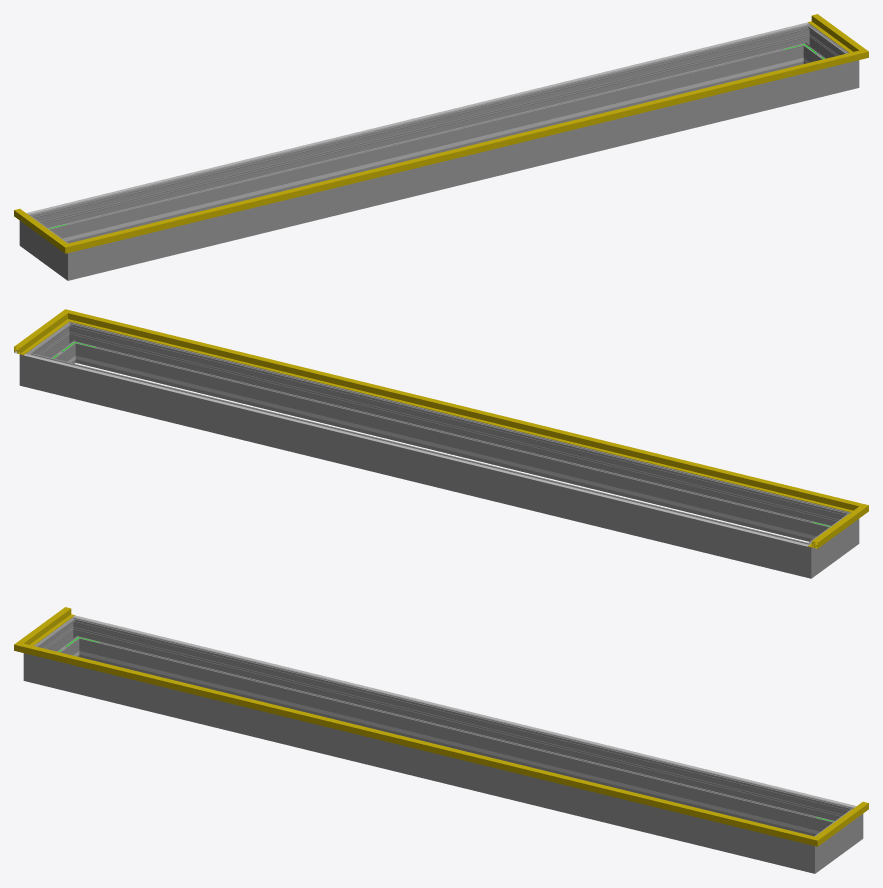
3 views of the same model, one above another, from view 1: azimuth 30°, elevation 25°; view 2: azimuth 150°, elevation 25°; view 3: azimuth 330°, elevation 25° (orthographic).
Parts seen in each view (by area): view 1: 3DGeom-276, 3DGeom-298, 3DGeom-123, 3DGeom-244, 3DGeom-220, 3DGeom-270, 3DGeom-284, 3DGeom-290, 3DGeom-128, 3DGeom-268, 3DGeom-297, 3DGeom-278; view 2: 3DGeom-298, 3DGeom-276, 3DGeom-123, 3DGeom-239, 3DGeom-220, 3DGeom-278, 3DGeom-284, 3DGeom-290, 3DGeom-297, 3DGeom-128, 3DGeom-268, 3DGeom-118; view 3: 3DGeom-276, 3DGeom-298, 3DGeom-123, 3DGeom-244, 3DGeom-220, 3DGeom-290, 3DGeom-278, 3DGeom-270, 3DGeom-118, 3DGeom-297, 3DGeom-268, 3DGeom-284.
Boxes of the visible parts, x1,y1,x2,y2 form: 3DGeom-276: (44,28,799,243); 3DGeom-298: (90,65,836,275); 3DGeom-123: (84,54,846,248); 3DGeom-244: (70,63,781,239); 3DGeom-220: (26,22,809,214); 3DGeom-270: (55,238,90,280); 3DGeom-284: (791,24,820,64); 3DGeom-290: (837,48,859,93); 3DGeom-128: (808,14,855,50); 3DGeom-268: (32,222,61,271); 3DGeom-297: (805,32,842,63); 3DGeom-278: (19,211,52,254); 3DGeom-298: (79,326,834,541); 3DGeom-276: (42,357,792,573); 3DGeom-123: (82,314,846,509); 3DGeom-239: (97,361,808,537); 3DGeom-220: (24,354,808,546); 3DGeom-278: (789,536,824,578); 3DGeom-284: (19,346,45,390); 3DGeom-290: (58,322,87,363); 3DGeom-297: (36,330,73,363); 3DGeom-128: (14,318,61,355); 3DGeom-268: (817,520,846,568); 3DGeom-118: (808,513,855,548); 3DGeom-276: (83,621,838,836); 3DGeom-298: (46,658,792,868); 3DGeom-123: (36,647,798,841); 3DGeom-244: (101,656,812,832); 3DGeom-220: (73,615,856,807); 3DGeom-290: (792,831,827,873); 3DGeom-278: (62,617,91,657); 3DGeom-270: (23,641,45,686); 3DGeom-118: (27,607,74,643); 3DGeom-297: (821,815,850,864); 3DGeom-268: (40,625,77,656); 3DGeom-284: (830,804,863,847).
Bounding box in the file's own units: 5.49 × 0.2434 × 0.6096.
